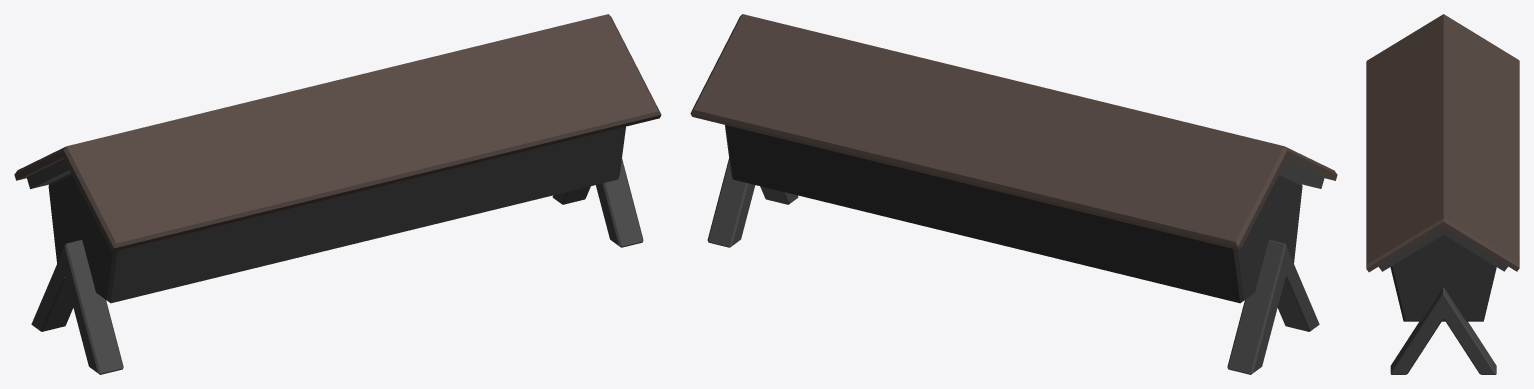
File: littlefoodholder_a003.glb
3 views of the same model, side by side, from view 1: azimuth 30°, elevation 25°; view 2: azimuth 150°, elevation 25°; view 3: azimuth 270°, elevation 25° (orthographic). The views are drawn at different scales.
Parts seen in each view (by area): view 1: littlefoodholder_a003; view 2: littlefoodholder_a003; view 3: littlefoodholder_a003.
Boxes of the visible parts, x1,y1,x2,y2 form: littlefoodholder_a003: (14,14,661,374); littlefoodholder_a003: (690,14,1337,374); littlefoodholder_a003: (1366,14,1519,374).
Bounding box in the file's own units: 1.97 × 0.6996 × 0.6201.
Materials: 1 (1 with a texture image).
